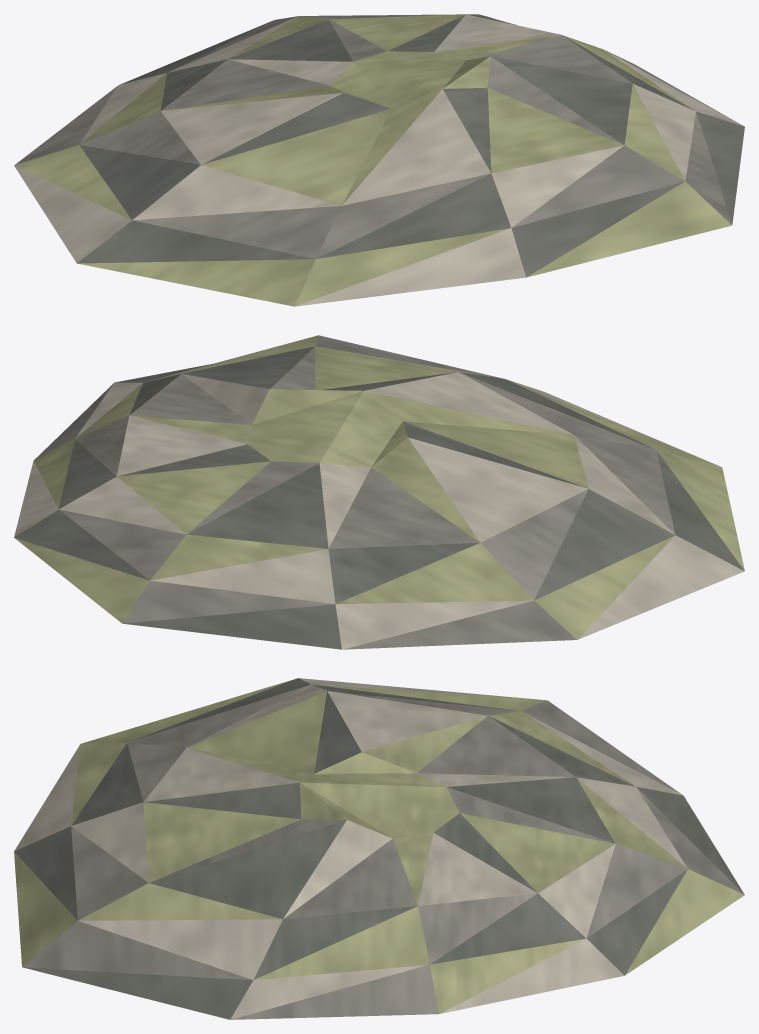
File: rock_slab_flat_03.fbx
3 views of the same model, one above another, from view 1: azimuth 30°, elevation 25°; view 2: azimuth 150°, elevation 25°; view 3: azimuth 270°, elevation 25° (orthographic). The views are drawn at different scales.
Parts seen in each view (by area): view 1: rock_slab_flat_03; view 2: rock_slab_flat_03; view 3: rock_slab_flat_03.
Boxes of the visible parts, bbox=[...] form: rock_slab_flat_03: bbox=[14, 14, 744, 306]; rock_slab_flat_03: bbox=[14, 335, 744, 649]; rock_slab_flat_03: bbox=[14, 678, 744, 1019].
Size of the model in its own units: 336 by 54 by 300.
Materials: 1 (1 with a texture image).
